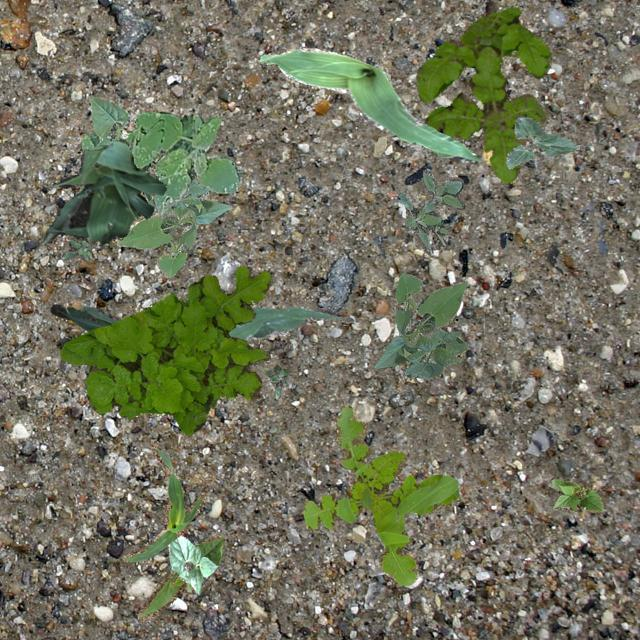crop: (258, 46, 481, 162), (49, 304, 340, 374), (38, 140, 165, 243), (117, 178, 230, 276), (373, 272, 468, 378), (122, 442, 205, 560), (136, 532, 224, 622), (506, 114, 578, 168), (166, 534, 216, 594), (90, 95, 126, 148), (550, 478, 602, 510)
weed: (59, 266, 270, 434), (302, 403, 458, 584), (414, 6, 550, 182), (80, 110, 242, 216), (398, 168, 466, 255), (264, 363, 288, 398), (60, 240, 92, 258)
